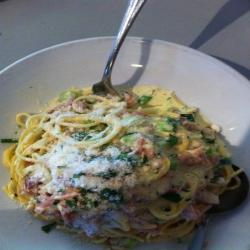carbonara: (6, 78, 245, 247)
